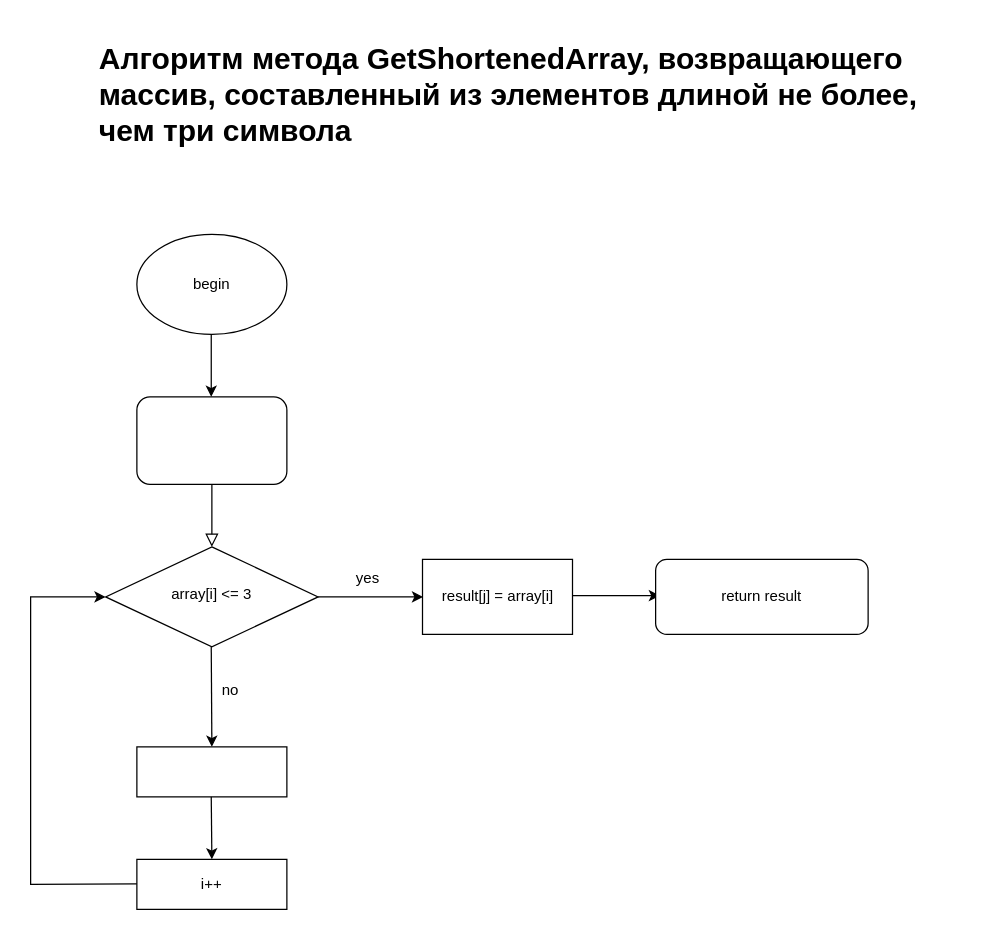
Image size: 1003x931. Some labels were removed from this diagram. The shapes that lost their labels are listed below. From the top down, each one's box as (x1, y1, x2, y2) in pixels, then its label:
(136, 396, 287, 484): string[] result string[] array int i = 0 int j = 0
(136, 746, 287, 797): j ++
